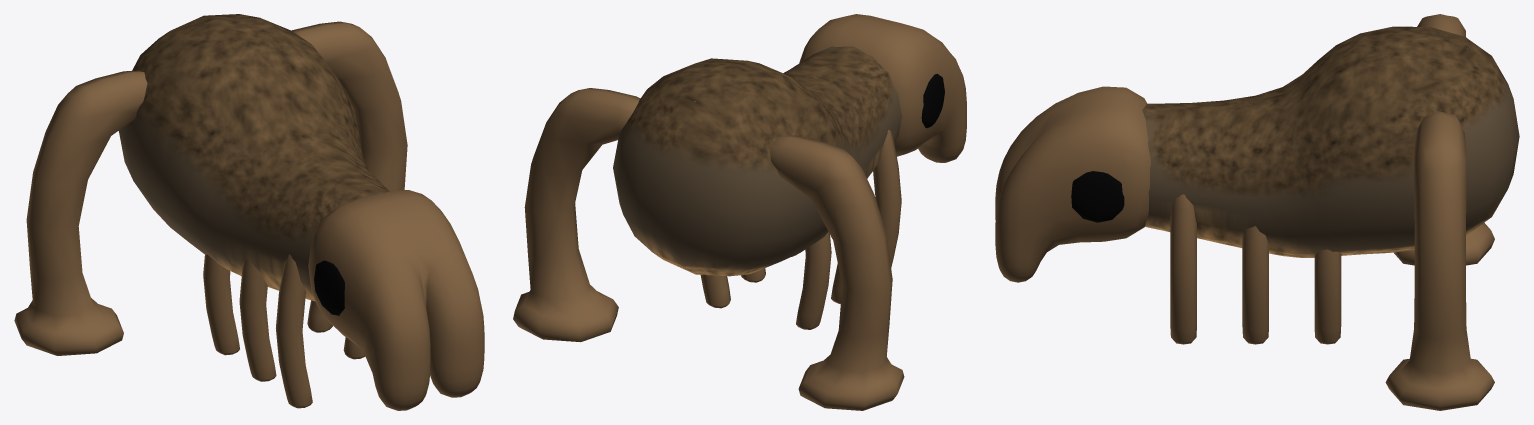
Rendered from GroundVarient.fbx.
3 views of the same model, side by side, from view 1: azimuth 30°, elevation 25°; view 2: azimuth 150°, elevation 25°; view 3: azimuth 270°, elevation 25° (orthographic). The views are drawn at different scales.
Visible parts, largest first — view 1: Cube.019, Cube.021, Cube.020, Cube.022, Icosphere.005; view 2: Cube.019, Cube.021, Cube.020, Cube.022, Icosphere.005; view 3: Cube.019, Cube.020, Cube.021, Cube.022, Icosphere.005.
Boxes of the visible parts, bbox=[...] form: Cube.019: bbox=[119, 14, 389, 301]; Cube.021: bbox=[14, 21, 407, 355]; Cube.020: bbox=[308, 190, 484, 410]; Cube.022: bbox=[203, 254, 365, 408]; Icosphere.005: bbox=[314, 260, 344, 315]; Cube.019: bbox=[613, 46, 901, 276]; Cube.021: bbox=[513, 88, 904, 410]; Cube.020: bbox=[799, 14, 966, 162]; Cube.022: bbox=[700, 129, 901, 329]; Icosphere.005: bbox=[921, 73, 944, 128]; Cube.019: bbox=[1142, 26, 1519, 257]; Cube.020: bbox=[995, 86, 1150, 282]; Cube.021: bbox=[1385, 14, 1494, 410]; Cube.022: bbox=[1170, 194, 1341, 344]; Icosphere.005: bbox=[1071, 171, 1124, 222].
Bounding box in the file's own units: 700 × 486 × 819.
